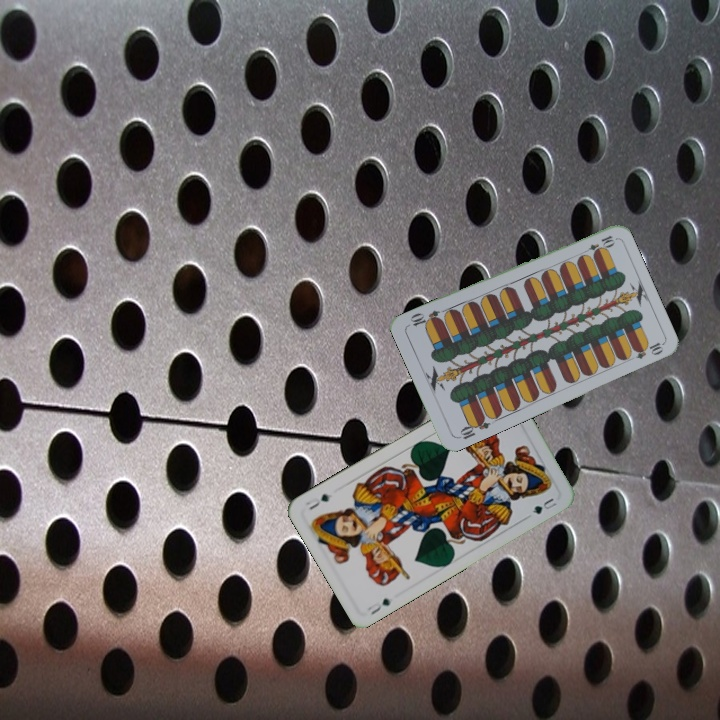E10: (454, 413, 492, 442), (578, 231, 617, 258)
GU: (363, 594, 394, 617)
